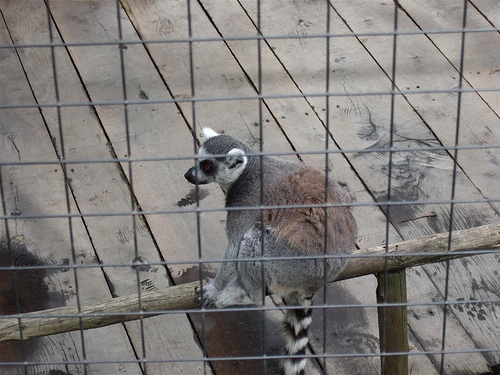cat: (184, 127, 359, 374)
